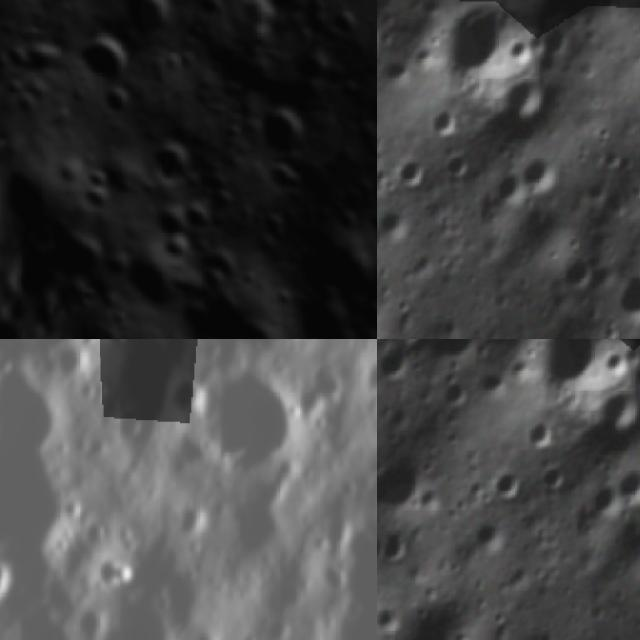crater: (169, 352, 327, 504), (0, 409, 108, 623), (0, 344, 96, 472), (426, 0, 547, 95), (285, 221, 377, 321), (522, 339, 640, 407), (182, 279, 305, 339), (107, 241, 191, 325), (189, 339, 328, 386), (288, 344, 364, 427), (244, 96, 322, 172), (163, 486, 237, 565), (136, 127, 209, 203), (492, 61, 567, 133), (377, 441, 439, 528), (75, 29, 142, 96), (10, 31, 73, 95), (587, 372, 640, 445), (0, 533, 39, 625), (113, 0, 184, 48), (516, 142, 572, 198), (63, 597, 132, 640), (166, 373, 218, 427), (377, 515, 425, 573), (353, 174, 377, 288), (429, 140, 478, 192), (553, 241, 601, 294), (313, 552, 362, 602), (526, 452, 574, 503), (607, 261, 640, 335), (89, 83, 137, 131), (392, 147, 433, 195), (488, 459, 529, 507), (424, 100, 467, 143), (520, 412, 563, 455), (327, 5, 368, 48), (611, 453, 640, 510), (377, 339, 412, 385), (361, 349, 377, 400), (387, 339, 442, 352), (98, 339, 141, 352)
